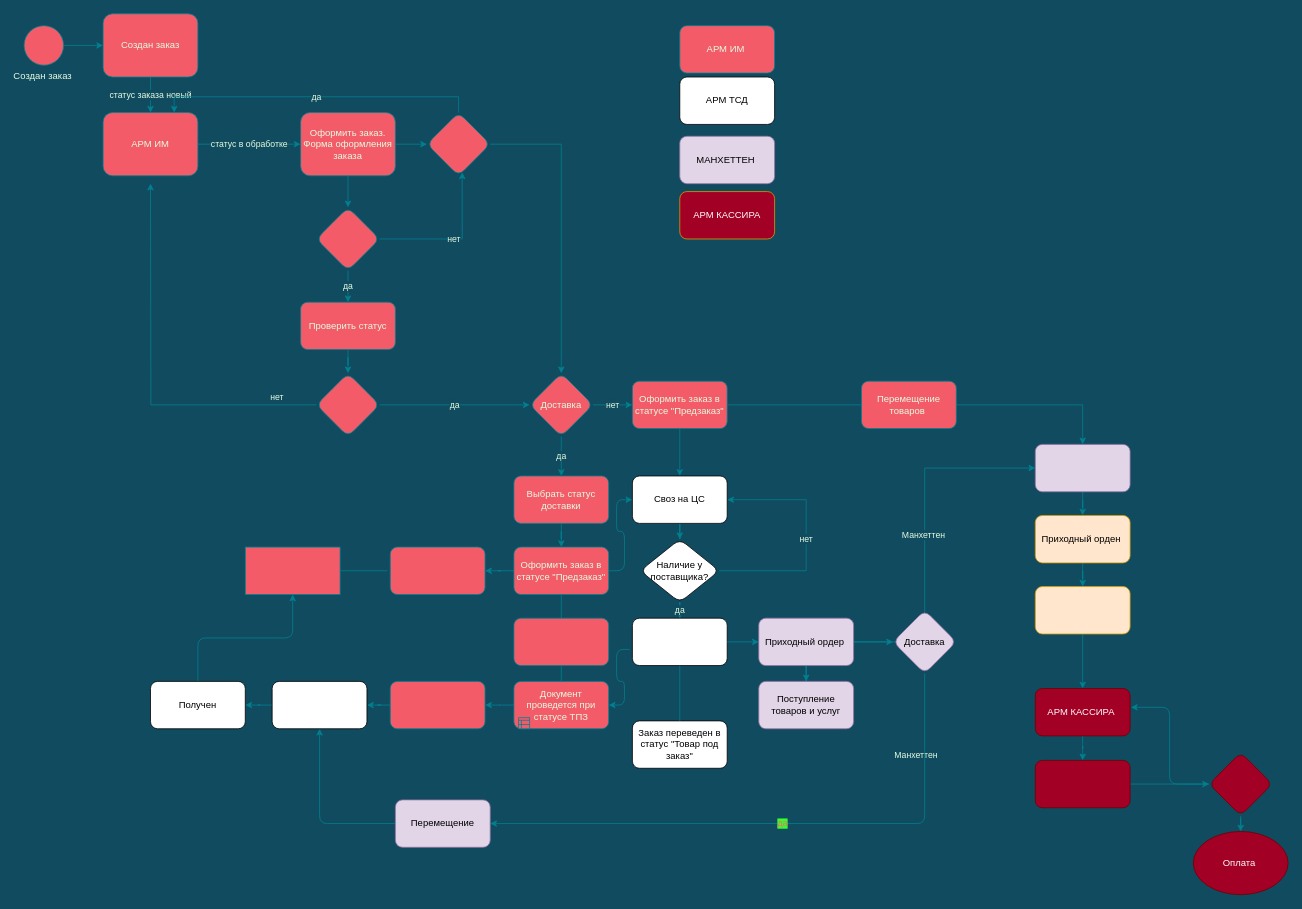
This 1302x909 diagram has some shape labels left out. The shapes that lost their labels are listed below. From the top down, each one's centre as x and y in pixels, then its label:
pixel 458 144: Наличие цены
pixel 348 239: Предоплата
pixel 348 404: Оплачен
pixel 1082 468: Расходный ордер на товар
pixel 292 570: Провед
pixel 437 570: Создан документ Реализация товаров и услуг
pixel 1082 610: Заказ покупателя "Статус готов к выдаче"
pixel 561 641: Создать документ "Доставка" не проведен
pixel 679 641: Созадть заказ поставщику
pixel 319 705: Отгружено
pixel 437 705: Доставка проведена
pixel 1082 784: Сканирования заказа в кассу
pixel 1240 784: Старт продаж?
